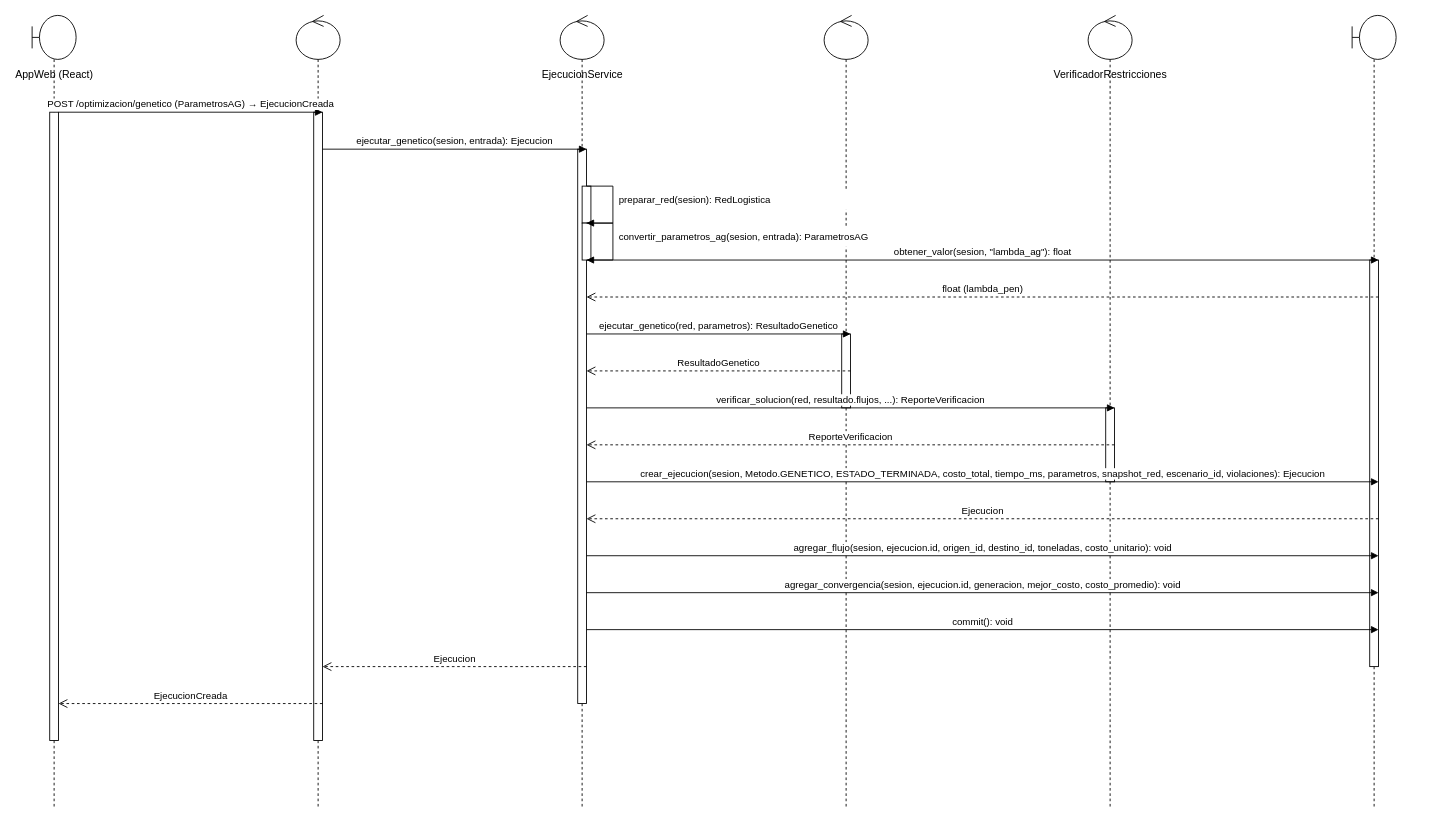
Some shapes in this 1447 by 825 pixel diagram are drawn without their labels. The box of each missing label's shape, as (x1, y1, x2, y2) in pixels:
<<External System>> Supabase (PostgreSQL): (1351, 15, 1396, 809)
AlgoritmoGenetico: (823, 15, 868, 809)
OptimizacionRouter: (295, 15, 340, 809)
